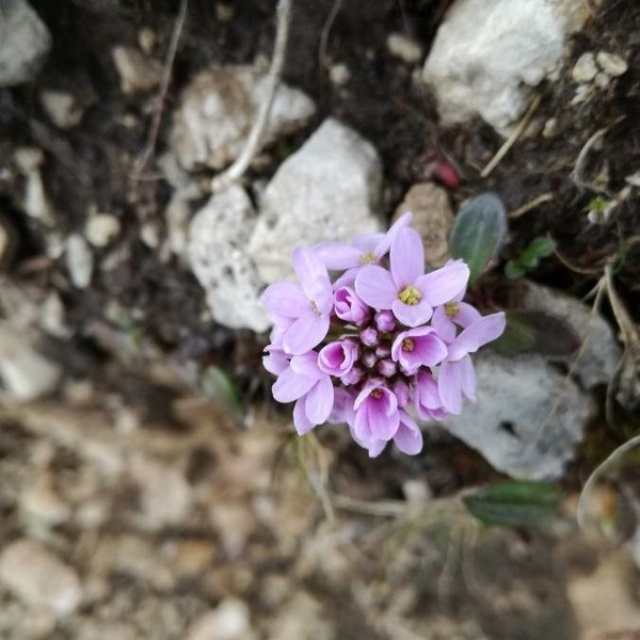obstacle: (235, 176, 565, 475)
